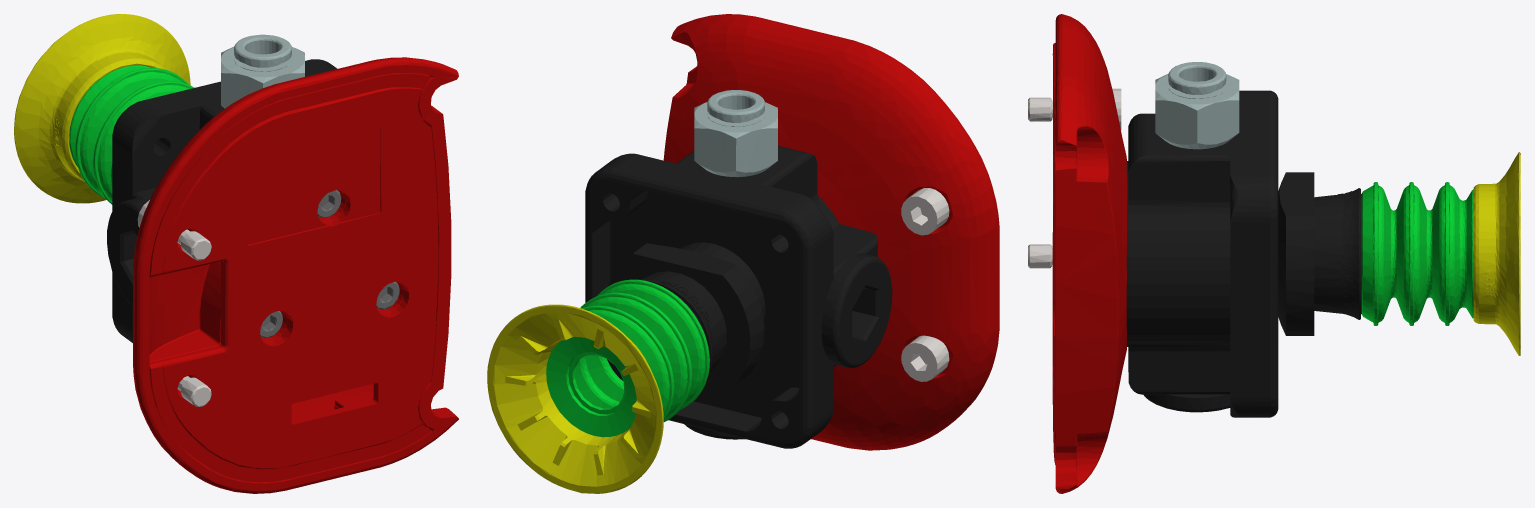
The model's file is pneumatic_gripper_w_cup.DAE.
3 views of the same model, side by side, from view 1: azimuth 30°, elevation 25°; view 2: azimuth 150°, elevation 25°; view 3: azimuth 270°, elevation 25° (orthographic).
Visible parts, largest first — view 1: ShapeIndexedFaceSet; view 2: ShapeIndexedFaceSet; view 3: ShapeIndexedFaceSet.
Part boxes in pixels (bbox=[...]): ShapeIndexedFaceSet: bbox=[14, 14, 458, 493]; ShapeIndexedFaceSet: bbox=[487, 14, 999, 493]; ShapeIndexedFaceSet: bbox=[1028, 14, 1520, 493].
Bounding box in the file's own units: 0.062 × 0.0749 × 0.0821.
